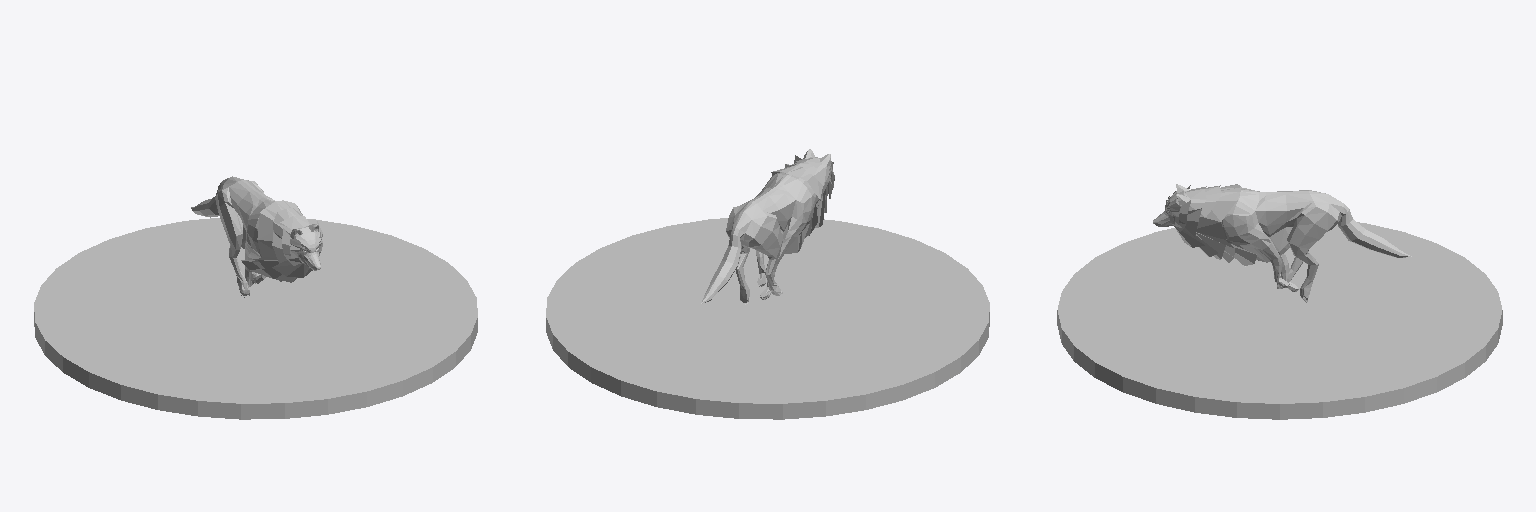
The model's file is Wolf_0007.obj.
3 views of the same model, side by side, from view 1: azimuth 30°, elevation 25°; view 2: azimuth 150°, elevation 25°; view 3: azimuth 270°, elevation 25° (orthographic).
Parts seen in each view (by area): view 1: Circle, Wolf1_Material__wolf_col_tga_0, Wolf2_fur__fella3_jpg_001_0; view 2: Circle, Wolf1_Material__wolf_col_tga_0, Wolf2_fur__fella3_jpg_001_0; view 3: Circle, Wolf1_Material__wolf_col_tga_0, Wolf2_fur__fella3_jpg_001_0.
Part boxes in pixels (x1,y1,x2,y2): Circle: (34,218,477,419); Wolf1_Material__wolf_col_tga_0: (191,176,320,295); Wolf2_fur__fella3_jpg_001_0: (241,200,322,282); Circle: (546,218,989,419); Wolf1_Material__wolf_col_tga_0: (701,149,830,303); Wolf2_fur__fella3_jpg_001_0: (771,155,834,253); Circle: (1057,222,1502,419); Wolf1_Material__wolf_col_tga_0: (1153,184,1411,300); Wolf2_fur__fella3_jpg_001_0: (1165,184,1293,266).
Bounding box in the file's own units: 1.69 × 0.584 × 1.69.